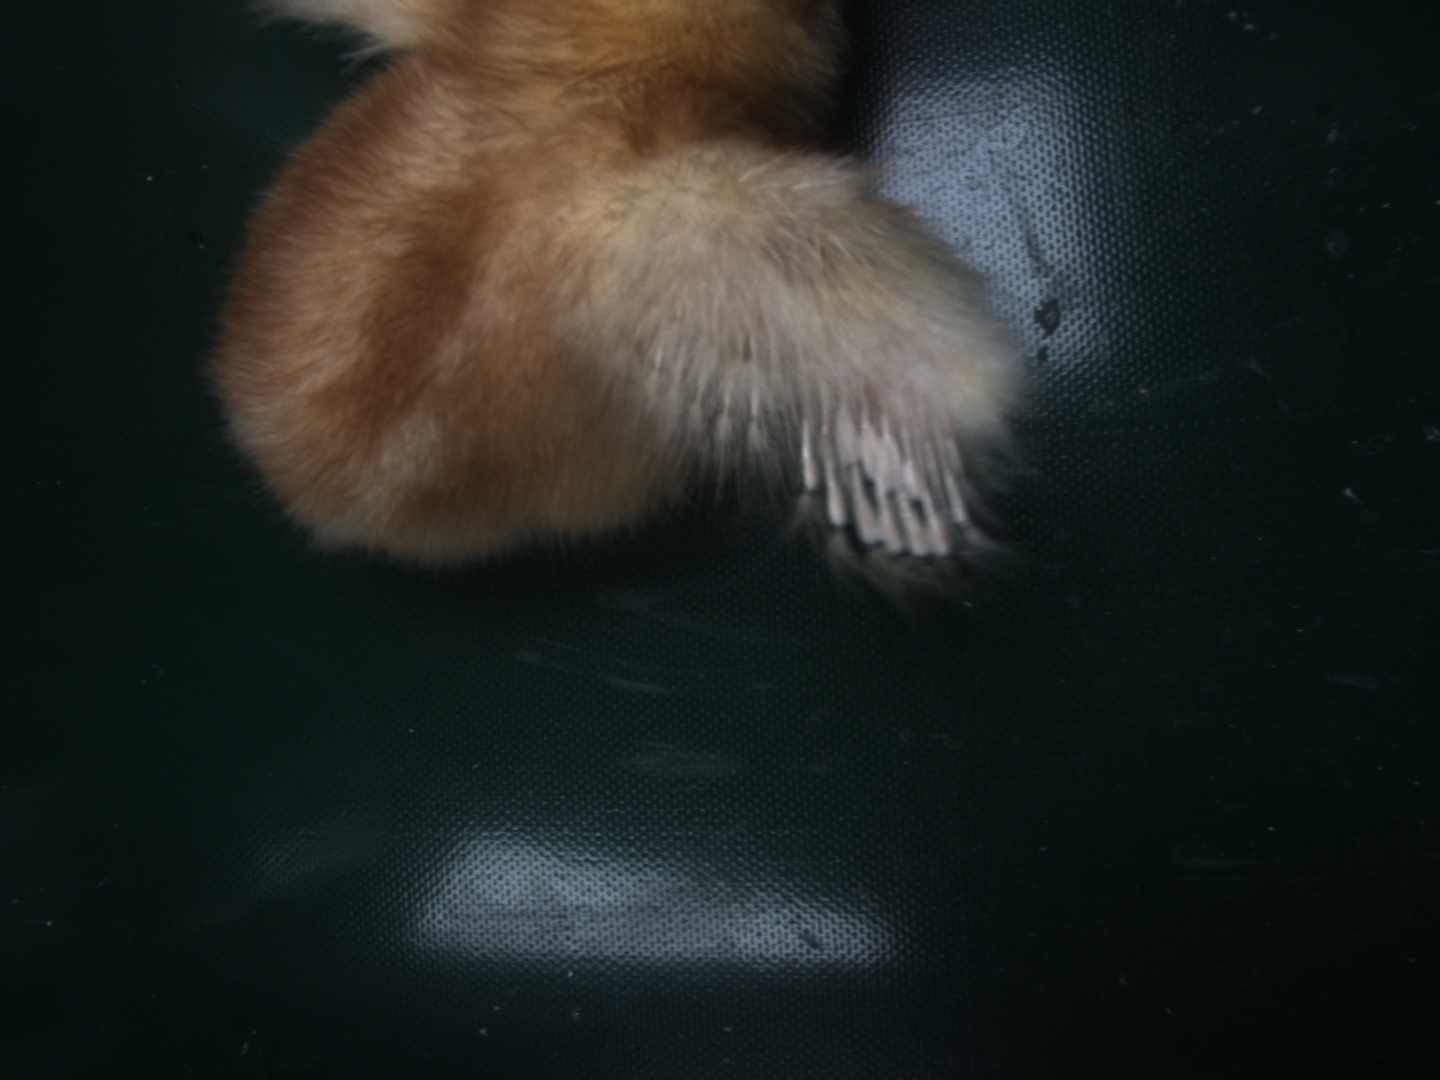female: (795, 363, 982, 559)
